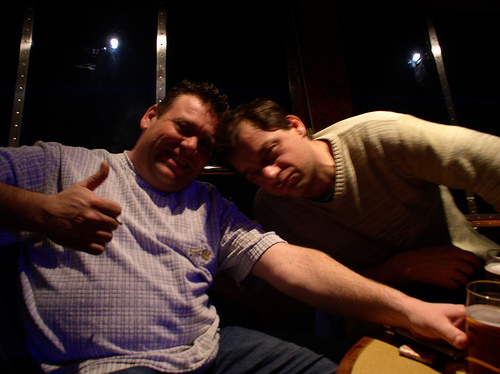without_mask: (229, 106, 321, 201), (136, 94, 217, 188)
